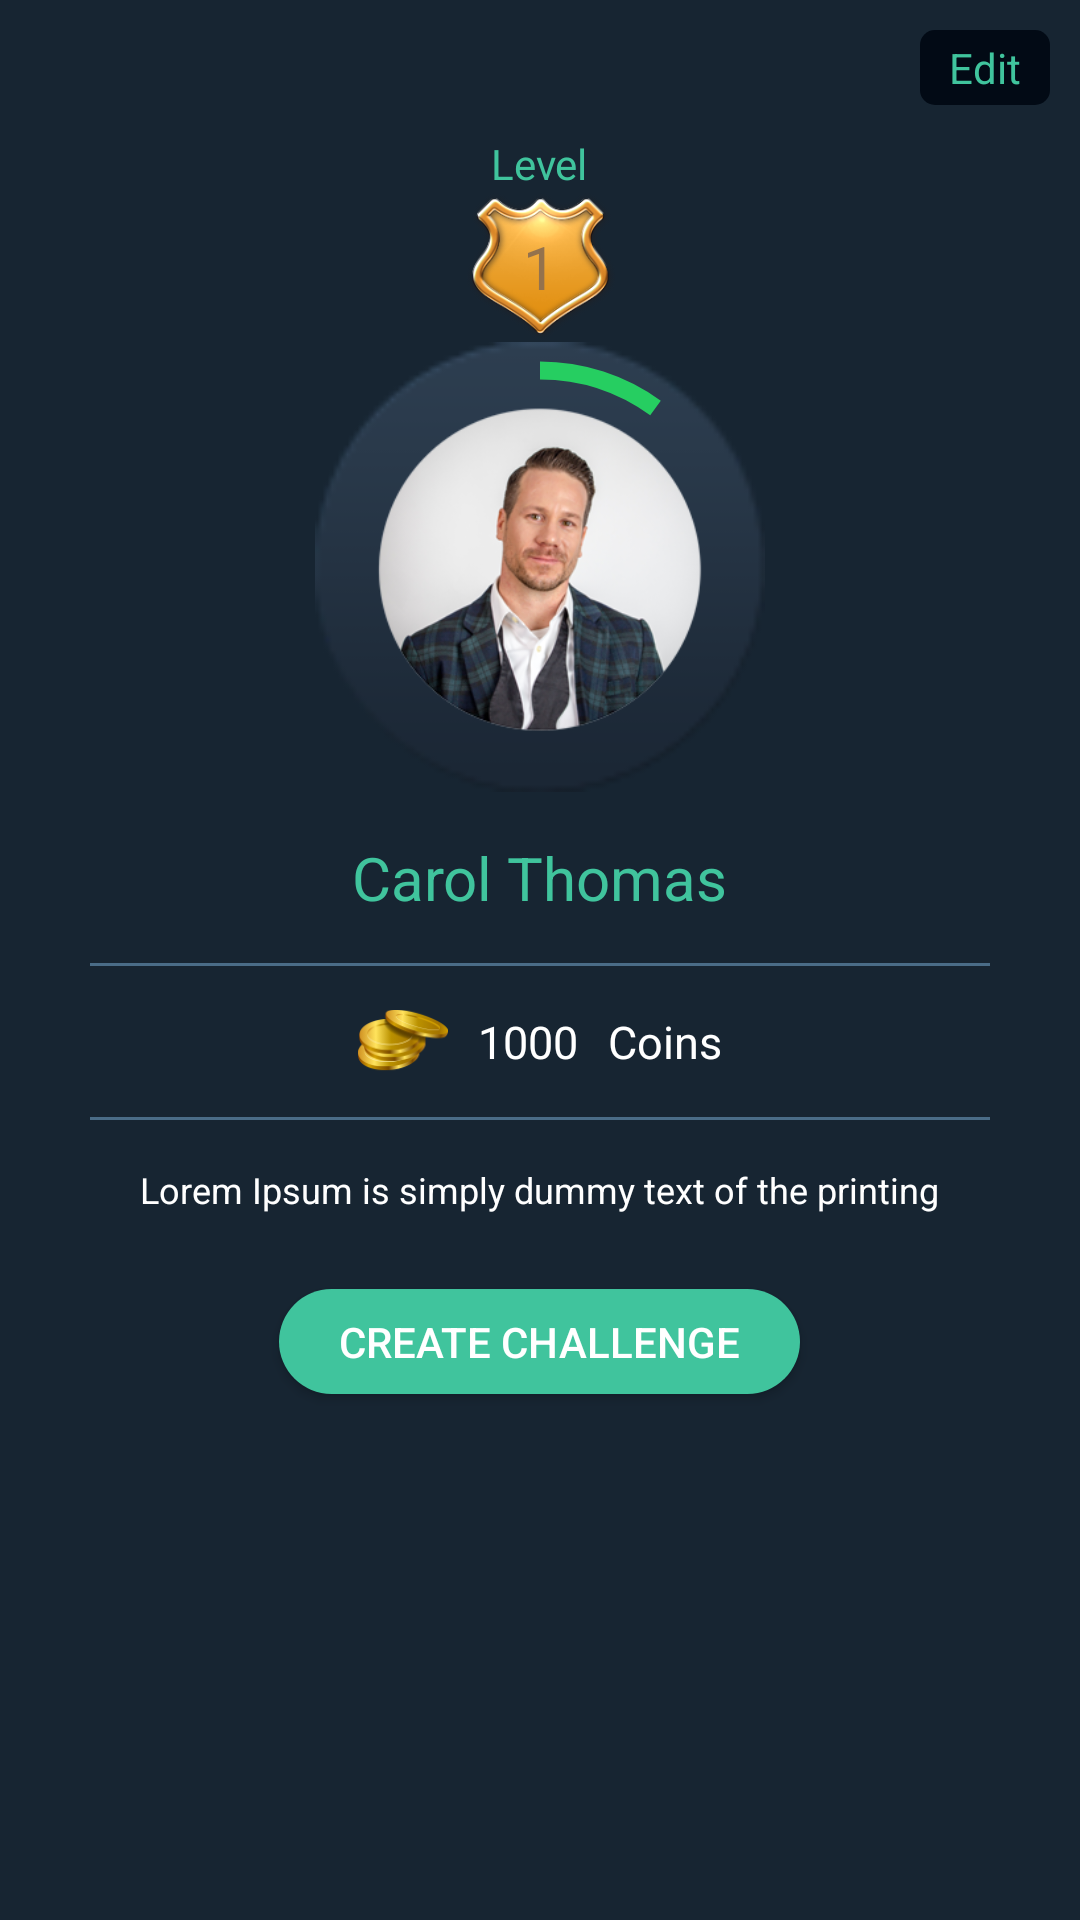

Icon click points for this 1080 x 1920 phone screenshot, format (x=x, y=y):
coins: (x=403, y=1040)
profile: (x=540, y=569)
